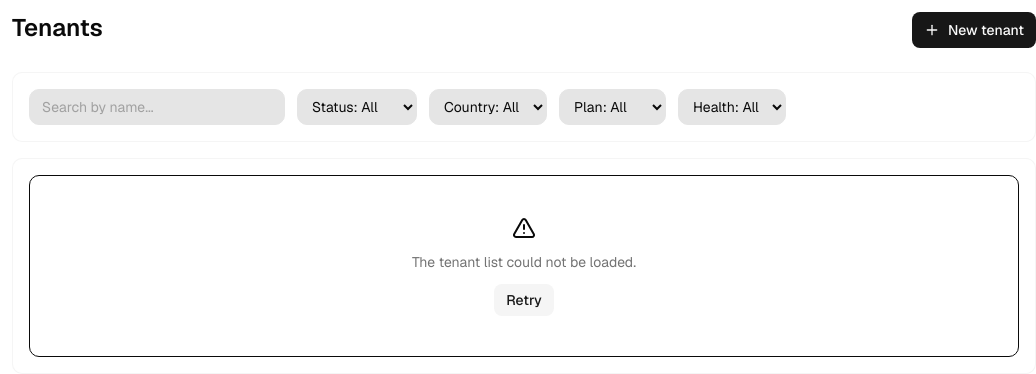
it: TenantsTable › shows the inline load-error panel and retries
Expected: the message "The tenant list could not be loaded. Retry" is shown, [29,175,1019,357]
Click the button with test id "tenants-error-retry" at (524, 300), box [494,284,554,316]
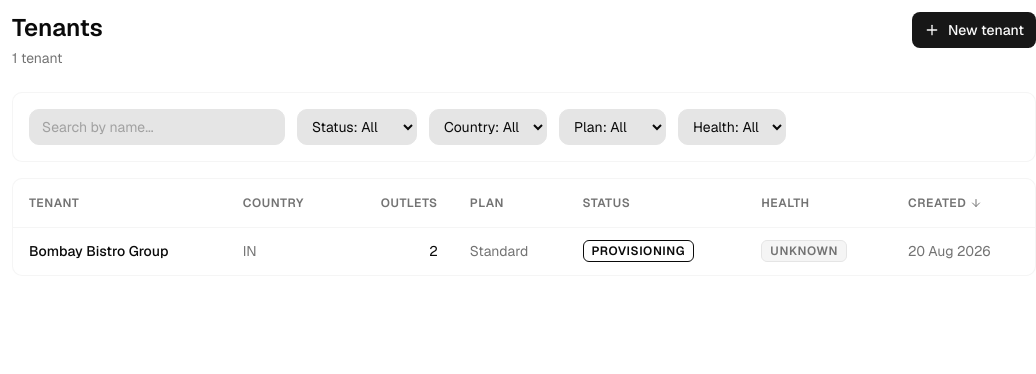
Expected: the message with test id "tenants-error" is gone
Expected: the table with test id "tenants-table" is shown, [13,179,1035,275]
